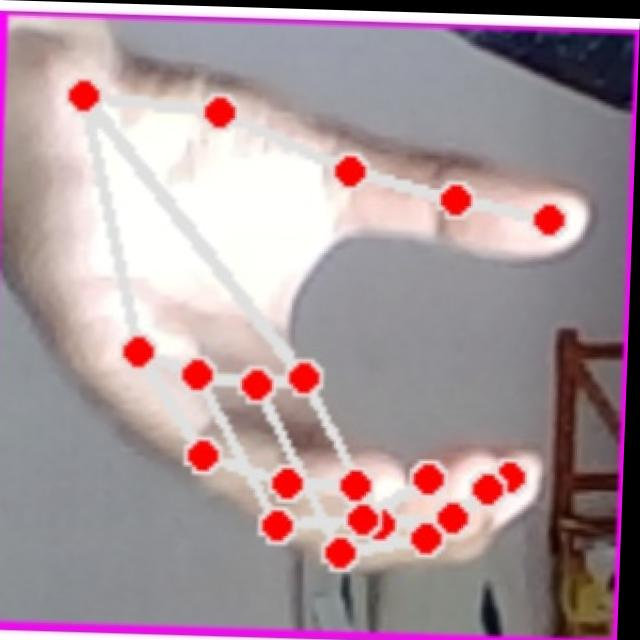C: (0, 59, 614, 612)
